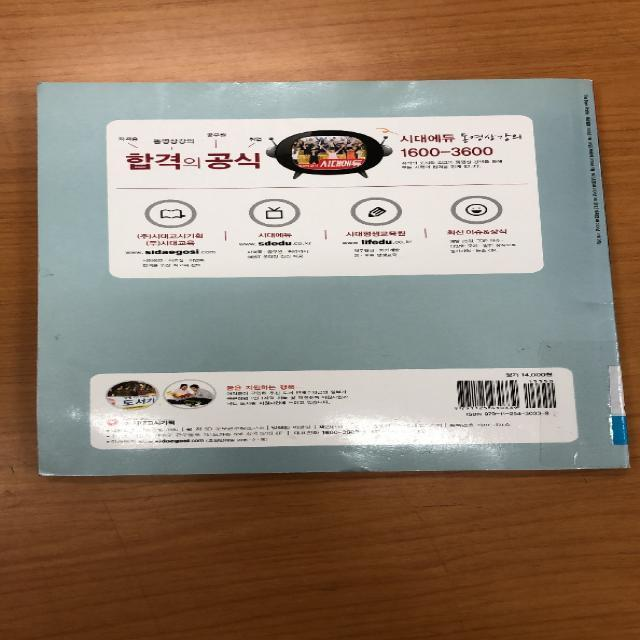Wornout: (26, 462, 114, 483), (561, 452, 636, 473)
